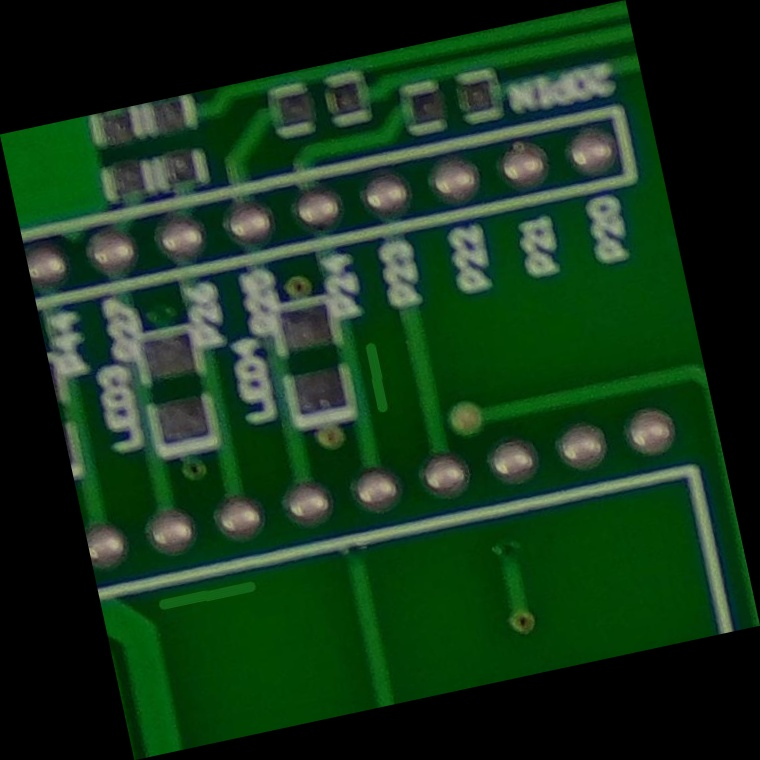spurious_copper: (343, 325, 417, 435)
